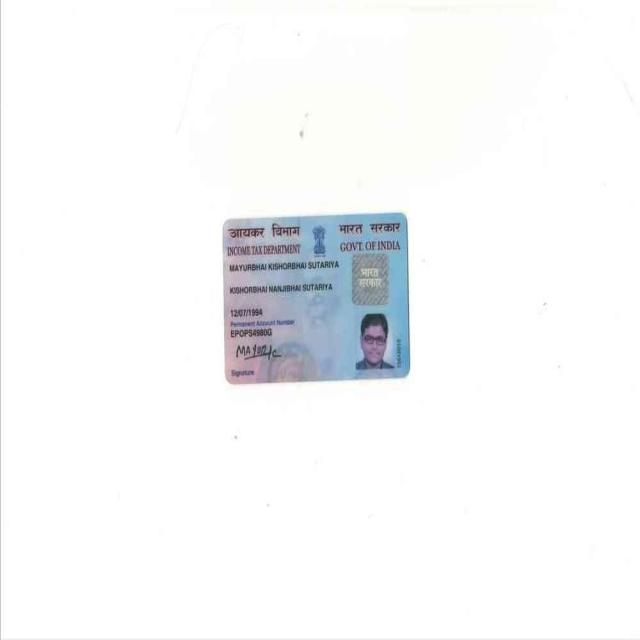pan_card: (223, 213, 410, 385)
